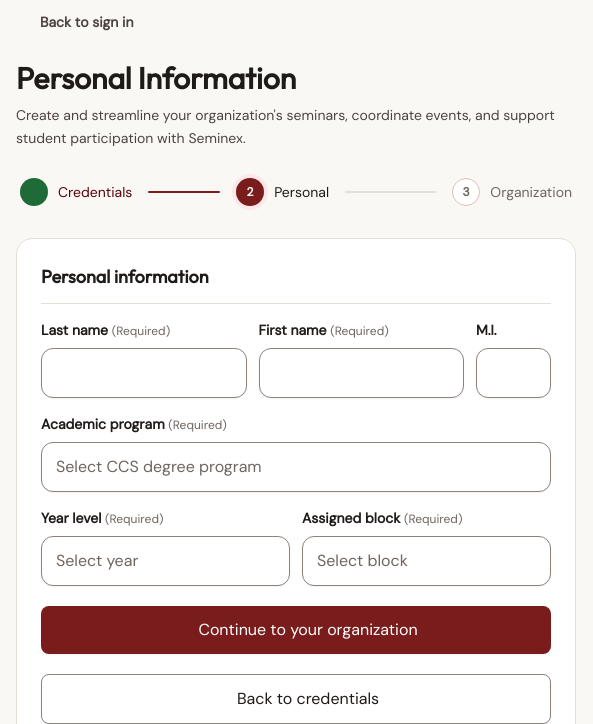
Scenario: organization signup with an incomplete profile › does not advance to organization selection while personal details are missing
expect the heading "Personal information" is shown: met, box [41,264,208,288]
Click the button "Continue to your organization".
click(296, 630)  # box [41,606,551,654]
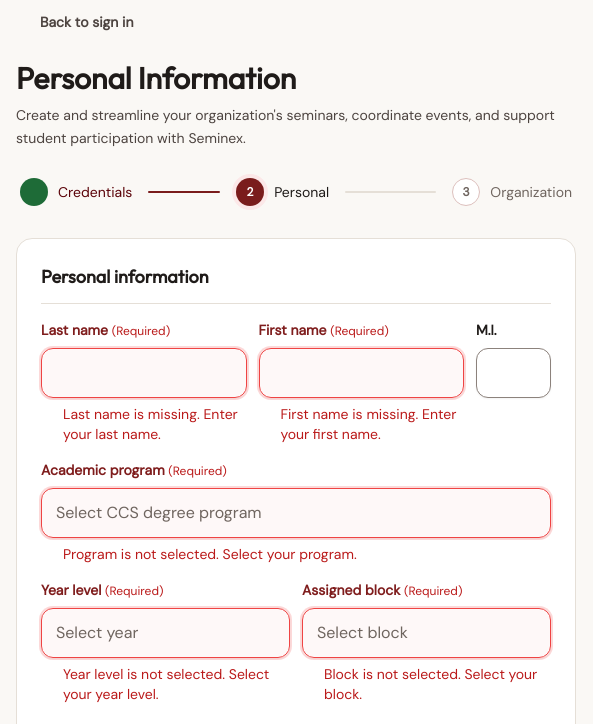
expect the heading "Personal information" is shown: met, box [41,264,208,288]
expect the text "Last name is missing. Enter your last name." is shown: met, box [63,404,246,444]
